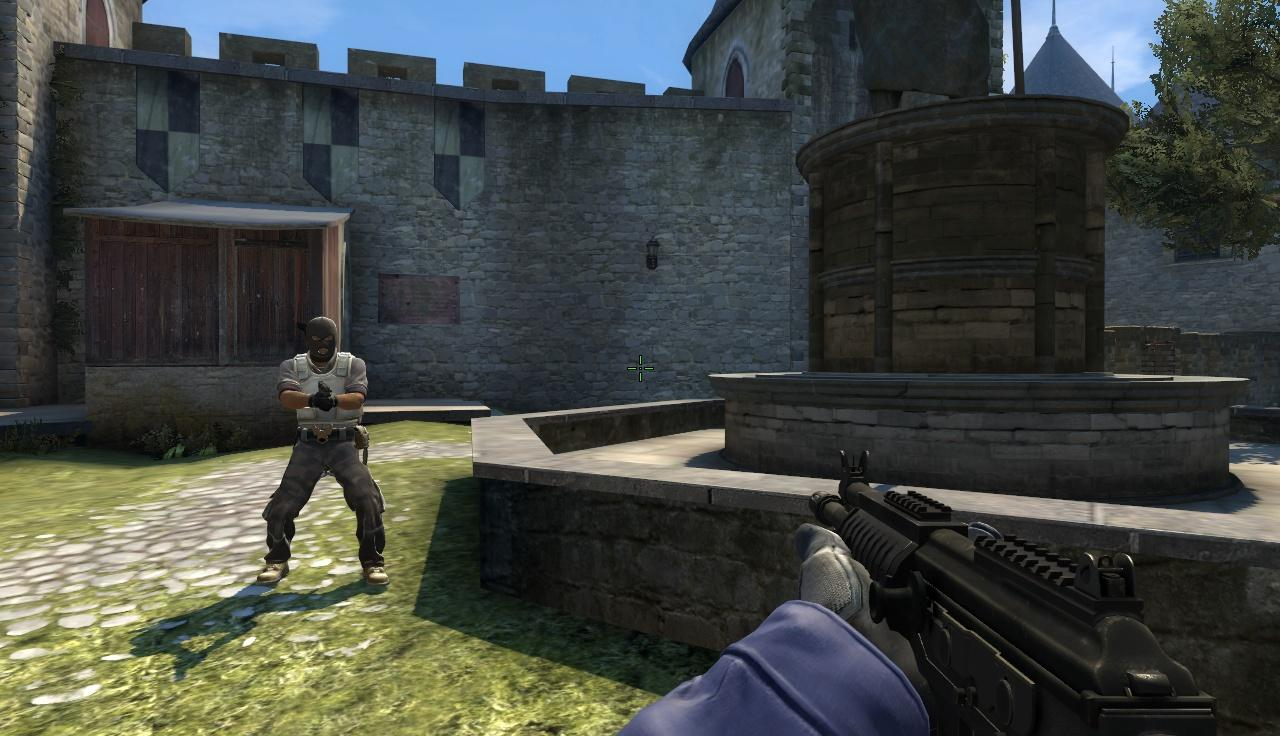rifle: (790, 445, 1236, 732)
tt: (269, 324, 373, 594)
tthead: (307, 316, 340, 362)
